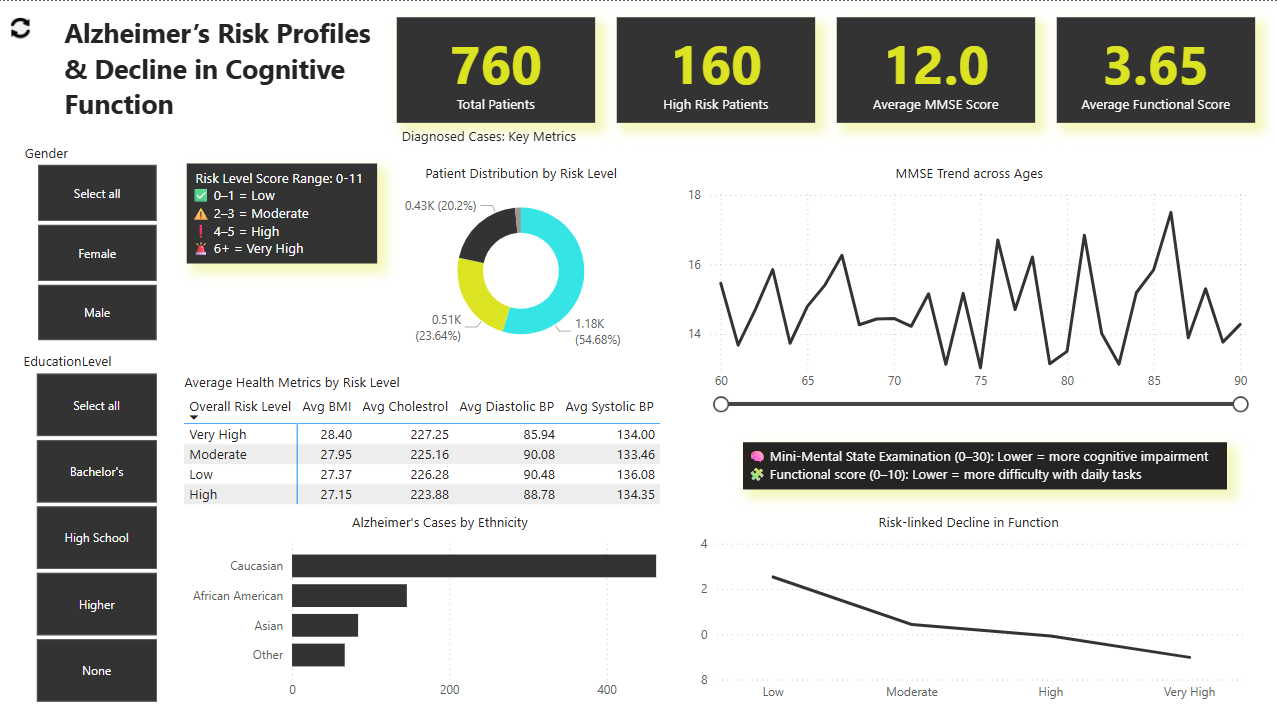

The page's visual inventory and layout, read from the dashboard file:
{"tool":"powerbi","page":{"name":"Page 1","canvas":[1280,720],"ordinal":0},"visuals":[{"type":"donutChart","title":"Patient Distribution by Risk Level","fields":{"Category":["alzheimers_disease_data.OverallRiskLevel"],"Y":["CountNonNull(alzheimers_disease_data.PatientID)"]},"box":[386.2,162.5,273.8,197.5],"z":0},{"type":"lineChart","title":"MMSE Trend across Ages","fields":{"Y":["alzheimers_disease_data.Average MMSE Score"],"Category":["alzheimers_disease_data.Age"]},"box":[685,162.5,572.5,251.2],"z":1000},{"type":"lineChart","title":"Risk-linked Decline in Function","fields":{"Category":["alzheimers_disease_data.OverallRiskLevel"],"Y":["cogn and func assessment.Average Functional Assessment"]},"box":[688.8,511.2,563.8,197.5],"z":2000},{"type":"slicer","fields":{"Values":["alzheimers_disease_data.EducationLevel"]},"box":[12.5,346.2,170,361.2],"z":3000},{"type":"card","fields":{"Values":["alzheimers_disease_data.Total Alzheimer's Patients"]},"box":[399.2,16,198.6,105.4],"z":4000,"group":"g1"},{"type":"slicer","fields":{"Values":["alzheimers_disease_data.Gender"]},"box":[13.8,137.5,168.8,208.8],"z":4000},{"type":"barChart","title":"Alzheimer''s Cases by Ethnicity","fields":{"Y":["alzheimers_disease_data.Total Alzheimer's Patients"],"Category":["alzheimers_disease_data.Ethnicity"]},"box":[181.2,511.2,521.2,196.2],"z":5000},{"type":"textbox","box":[188.8,162.5,190,100],"z":6000},{"type":"textbox","box":[61.2,8.8,317.5,153.8],"z":7000,"group":"g1"},{"type":"pivotTable","title":"Average Health Metrics by Risk Level","fields":{"Rows":["alzheimers_disease_data.OverallRiskLevel"],"Values":["cogn and func assessment.Avg BMI","cogn and func assessment.Avg Cholestrol","cogn and func assessment.Avg Diastolic BP","cogn and func assessment.Avg Systolic BP"]},"box":[181.2,371.2,498.8,140],"z":7000},{"type":"card","fields":{"Values":["alzheimers_disease_data.High Risk Patient Count"]},"box":[619.1,16,198.6,105.4],"z":8000,"group":"g1"},{"type":"textbox","box":[745,441.2,483.8,47.5],"z":8000},{"type":"card","fields":{"Values":["alzheimers_disease_data.Average MMSE Score"]},"box":[838.9,16,198.6,105.4],"z":9000,"group":"g1"},{"type":"group","id":"g1","title":"Group 1","box":[61.2,8.8,1196.2,153.8],"z":9000},{"type":"actionButton","title":"Reset all visuals","box":[0,0,45,55],"z":9001},{"type":"card","fields":{"Values":["cogn and func assessment.Average Functional Score"]},"box":[1058.7,16,198.6,105.4],"z":10000,"group":"g1"},{"type":"textbox","box":[398.2,121,229,32.3],"z":11000,"group":"g1"}]}

Visuals, with their boxes in screenshot pixels (x1, y1, x2, y2), scaled from the page's 1280x720 canvas onto the 1277x717 screenshot:
"Patient Distribution by Risk Level" donutChart: region(385, 162, 658, 358)
"MMSE Trend across Ages" lineChart: region(683, 162, 1255, 412)
"Risk-linked Decline in Function" lineChart: region(687, 509, 1250, 706)
slicer - alzheimers_disease_data.EducationLevel: region(12, 345, 182, 704)
card - alzheimers_disease_data.Total Alzheimer's Patients: region(398, 16, 596, 121)
slicer - alzheimers_disease_data.Gender: region(14, 137, 182, 345)
"Alzheimer''s Cases by Ethnicity" barChart: region(181, 509, 701, 704)
textbox: region(188, 162, 378, 261)
textbox: region(61, 9, 378, 162)
"Average Health Metrics by Risk Level" pivotTable: region(181, 370, 678, 509)
card - alzheimers_disease_data.High Risk Patient Count: region(618, 16, 816, 121)
textbox: region(743, 439, 1226, 487)
card - alzheimers_disease_data.Average MMSE Score: region(837, 16, 1035, 121)
"Group 1" group: region(61, 9, 1254, 162)
"Reset all visuals" actionButton: region(0, 0, 45, 55)
card - cogn and func assessment.Average Functional Score: region(1056, 16, 1254, 121)
textbox: region(397, 120, 626, 153)
